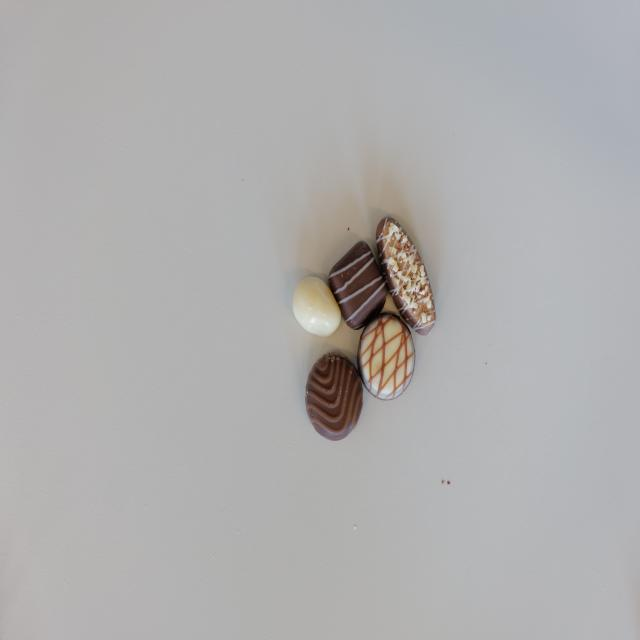Amandina: (376, 216, 436, 335)
Creme_brulee: (358, 312, 415, 402)
Jelly_White: (292, 276, 341, 338)
Noir_authentique: (305, 353, 364, 441)
Stracciatella: (329, 241, 388, 331)
